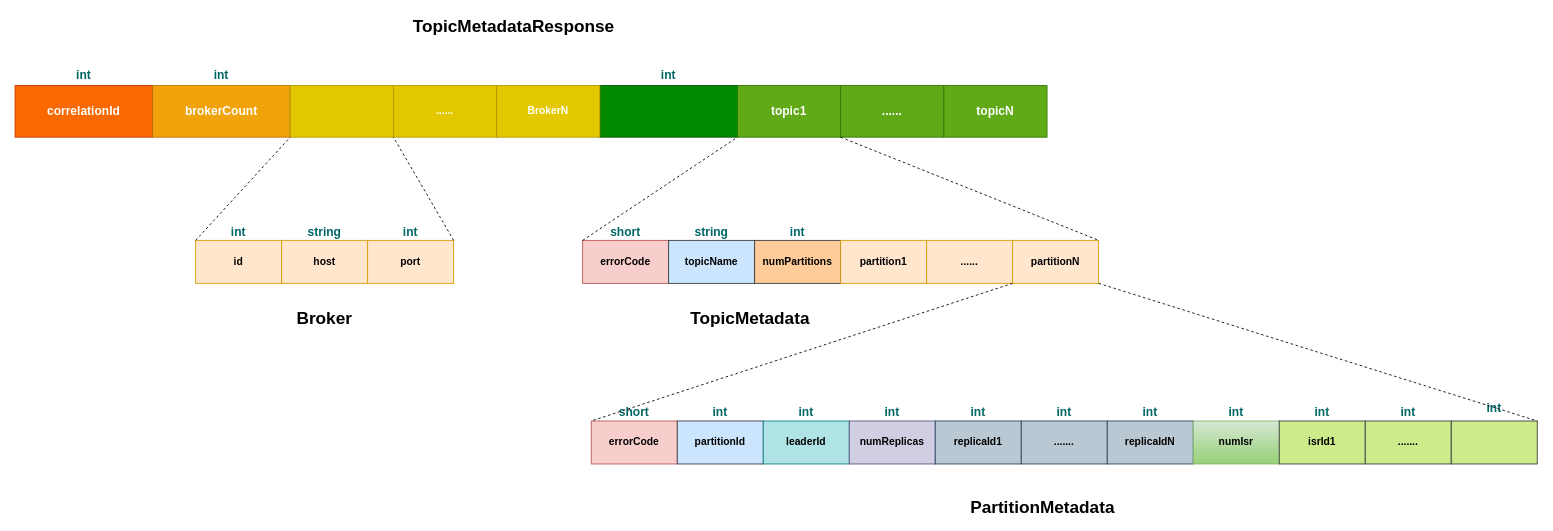
The diagram is 1553 pixels wide and 531 high, and some of its shapes have lost their labels. Each missing label, with the centre of its shape:
Broker1: (x=341, y=111)
isrIdN: (x=1493, y=442)
topicCount: (x=668, y=111)
